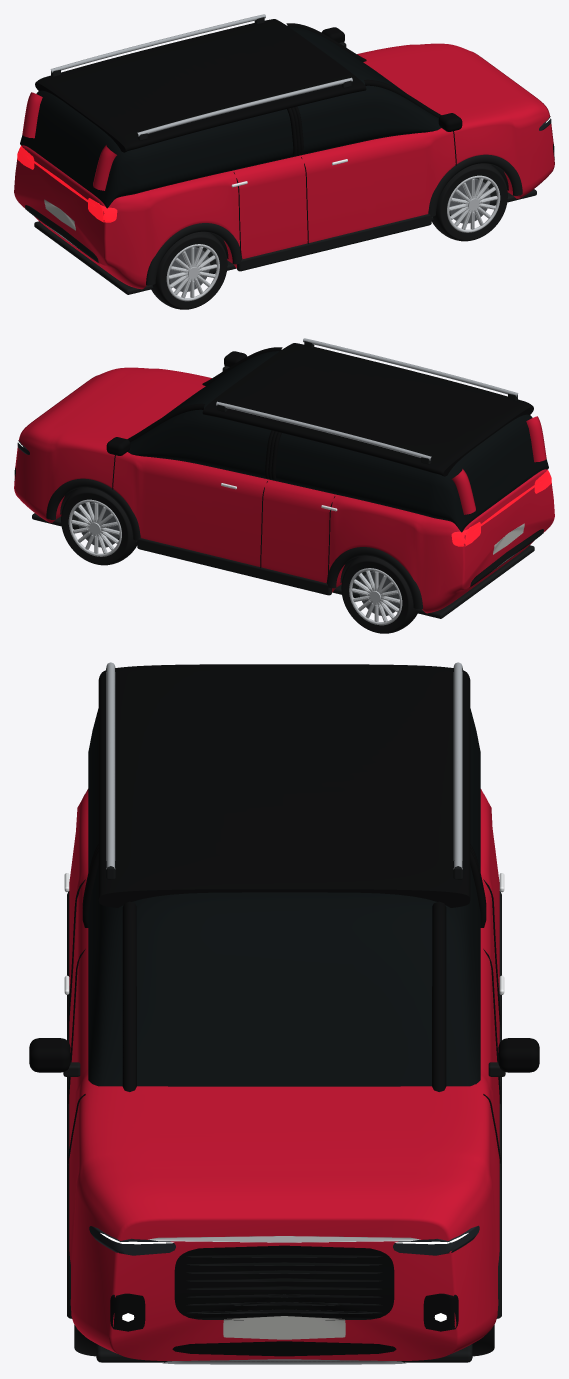
Rendered from honda-elevate.glb.
3 views of the same model, one above another, from view 1: azimuth 30°, elevation 25°; view 2: azimuth 150°, elevation 25°; view 3: azimuth 270°, elevation 25° (orthographic). The views are drawn at different scales.
Visible parts, largest first — view 1: Body, Roof, Glasshouse, Trim (×5), Tyre (×2), RoofRail (×2), Pillar (×3), Rim (×2), Disc (×2), Taillamp; view 2: Body, Roof, Glasshouse, Trim (×5), Tyre (×2), RoofRail (×2), Pillar (×3), Rim (×2), Disc (×2), Taillamp; view 3: Body, Roof, Glasshouse, GlossBlack (×6), Pillar (×2), RoofRail (×2), Plate, Headlamp (×2), Chrome, Silver, Trim.
Boxes of the visible parts, x1=… form: Body: x1=14, y1=43, x2=554, y2=289; Roof: x1=35, y1=19, x2=366, y2=152; Glasshouse: x1=20, y1=27, x2=441, y2=208; Trim (×5): x1=25, y1=154, x2=536, y2=294; Tyre (×2): x1=151, y1=163, x2=507, y2=309; RoofRail (×2): x1=50, y1=14, x2=352, y2=136; Pillar (×3): x1=22, y1=79, x2=441, y2=190; Rim (×2): x1=166, y1=175, x2=500, y2=301; Disc (×2): x1=169, y1=178, x2=490, y2=291; Taillamp: x1=88, y1=198, x2=117, y2=222; Body: x1=14, y1=367, x2=554, y2=613; Roof: x1=202, y1=343, x2=533, y2=476; Glasshouse: x1=127, y1=351, x2=548, y2=532; Trim (×5): x1=32, y1=478, x2=543, y2=618; Tyre (×2): x1=61, y1=487, x2=417, y2=633; RoofRail (×2): x1=216, y1=338, x2=518, y2=460; Pillar (×3): x1=127, y1=403, x2=546, y2=514; Rim (×2): x1=68, y1=499, x2=402, y2=625; Disc (×2): x1=78, y1=502, x2=399, y2=615; Taillamp: x1=451, y1=522, x2=480, y2=546; Body: x1=69, y1=789, x2=499, y2=1360; Roof: x1=98, y1=664, x2=470, y2=907; Glasshouse: x1=88, y1=708, x2=480, y2=1086; GlossBlack (×6): x1=29, y1=1038, x2=539, y2=1356; Pillar (×2): x1=122, y1=901, x2=446, y2=1091; RoofRail (×2): x1=106, y1=662, x2=462, y2=869; Plate: x1=223, y1=1316, x2=345, y2=1339; Headlamp (×2): x1=89, y1=1225, x2=479, y2=1255; Chrome: x1=148, y1=1236, x2=420, y2=1242; Silver: x1=162, y1=1359, x2=406, y2=1364; Trim: x1=96, y1=1344, x2=472, y2=1362.
Bounding box in the file's own units: 4.29 × 1.68 × 2.09.
